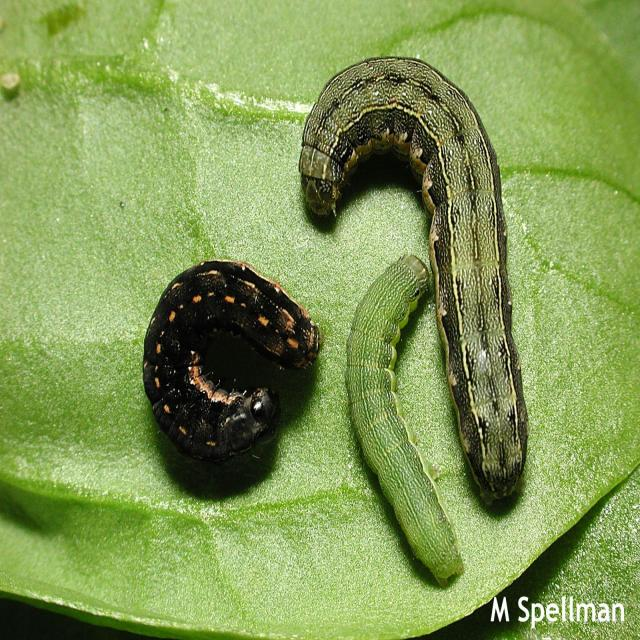BeetArmyWorm-Larva-: (294, 52, 527, 511), (340, 252, 465, 588), (134, 257, 326, 463)
